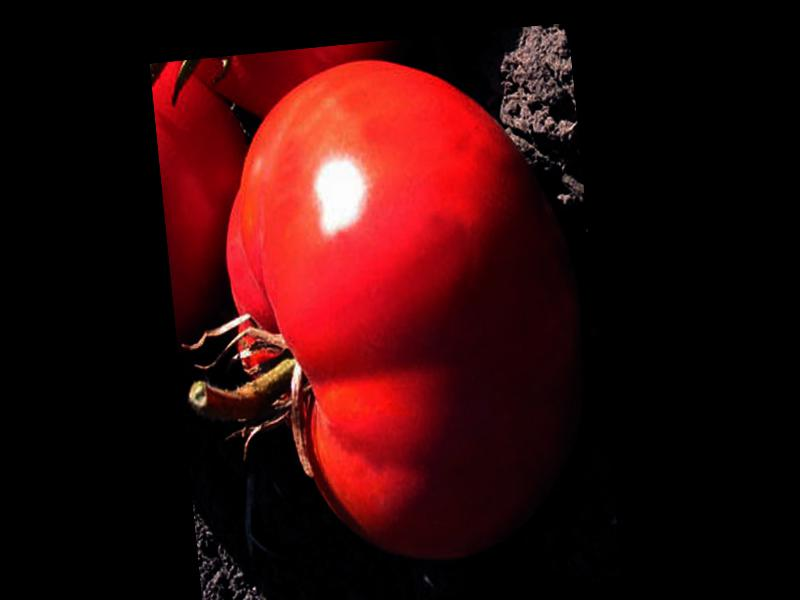Tomato: (210, 41, 603, 578)
